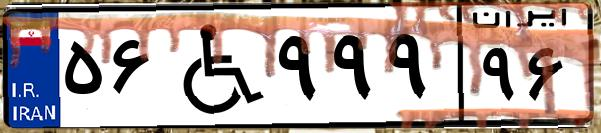5: (57, 26, 110, 100)
6: (525, 38, 570, 115), (110, 28, 158, 98)
9: (270, 28, 330, 110), (385, 28, 445, 110), (330, 28, 385, 110), (475, 38, 525, 113)
ژ (معلولین و جانبازان): (158, 12, 270, 120)
